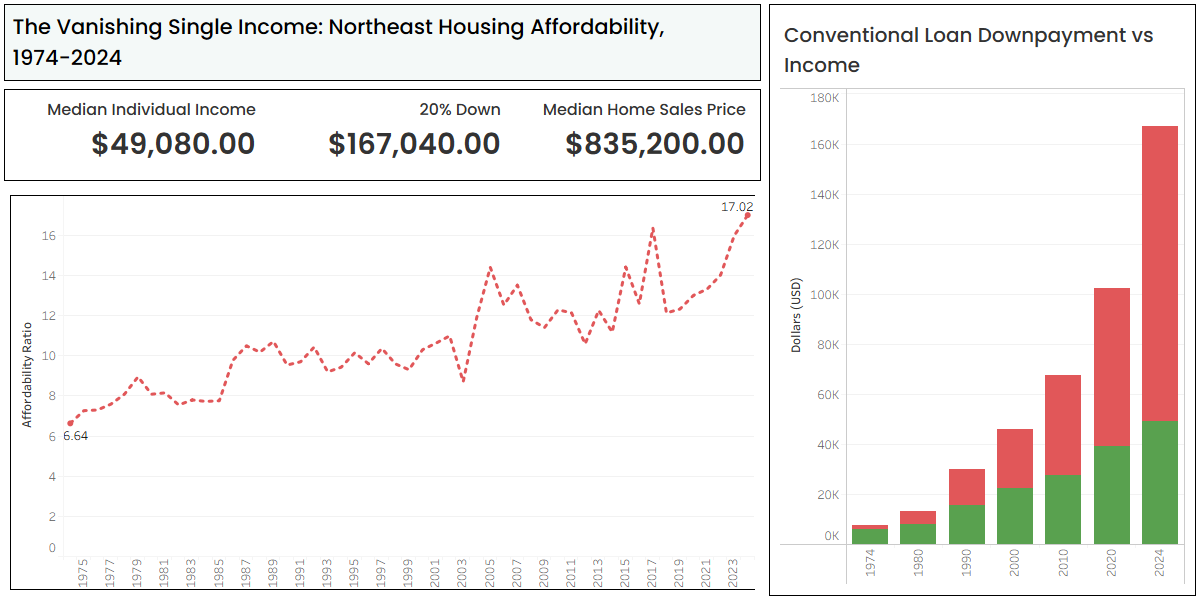

What the dashboard file says about the page in this screenshot:
{"tool":"tableau","page":{"name":"The Vanishing Single Income: Northeast Housing Affordability, 1974-2024","canvas":[1200,600],"ordinal":0},"visuals":[{"type":"text","box":[0,0,765,85]},{"type":"worksheet","title":"Conventional Loan Downpayment vs Income (AVG)","mark":"Bar","rows":["downpayment_20","individual_income"],"cols":["date"],"box":[765,0,435,600]},{"type":"worksheet","title":" KPI-Price","mark":"Automatic","box":[0,85,765,100]},{"type":"worksheet","title":"Affordability Ratio","mark":"Automatic","rows":["affordability"],"cols":["date"],"box":[0,185,765,415]}]}

Visuals, with their boxes in screenshot pixels (x1, y1, x2, y2), scaled from the page's 1200x600 canvas onto the 1200x600 screenshot:
text: Rect(0, 0, 765, 85)
"Conventional Loan Downpayment vs Income (AVG)" worksheet (Bar marks): Rect(765, 0, 1199, 599)
" KPI-Price" worksheet: Rect(0, 85, 765, 185)
"Affordability Ratio" worksheet: Rect(0, 185, 765, 599)
